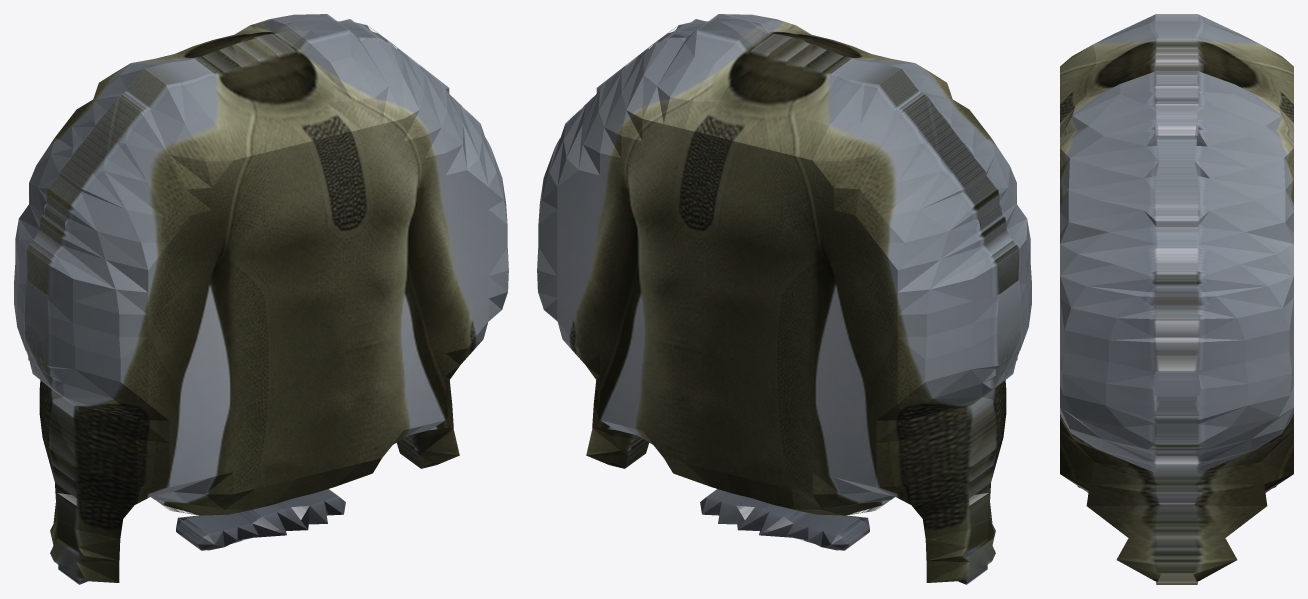
Rendered from givi-horizon-base-layer-042.glb.
3 renders of one model, left to right at view 1: azimuth 30°, elevation 25°; view 2: azimuth 150°, elevation 25°; view 3: azimuth 270°, elevation 25°, orthographic.
Visible parts, largest first — view 1: world; view 2: world; view 3: world.
Boxes of the visible parts, x1,y1,x2,y2 form: world: (14,14,508,584); world: (537,14,1031,584); world: (1060,14,1293,584).
Size of the model in its own units: 0.9607 by 1 by 0.44.
1 material, 1 textured.
